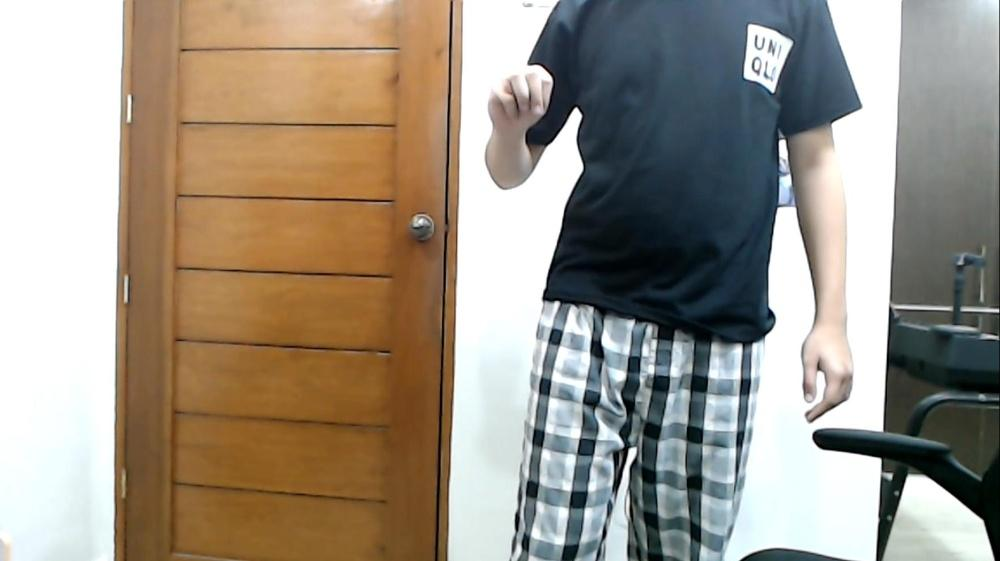m: (486, 63, 553, 126)
